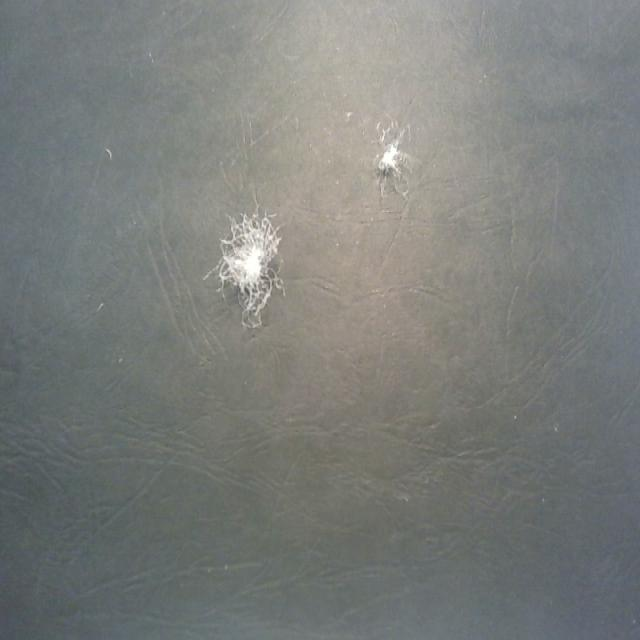feather: (212, 205, 282, 327), (374, 116, 410, 197)
